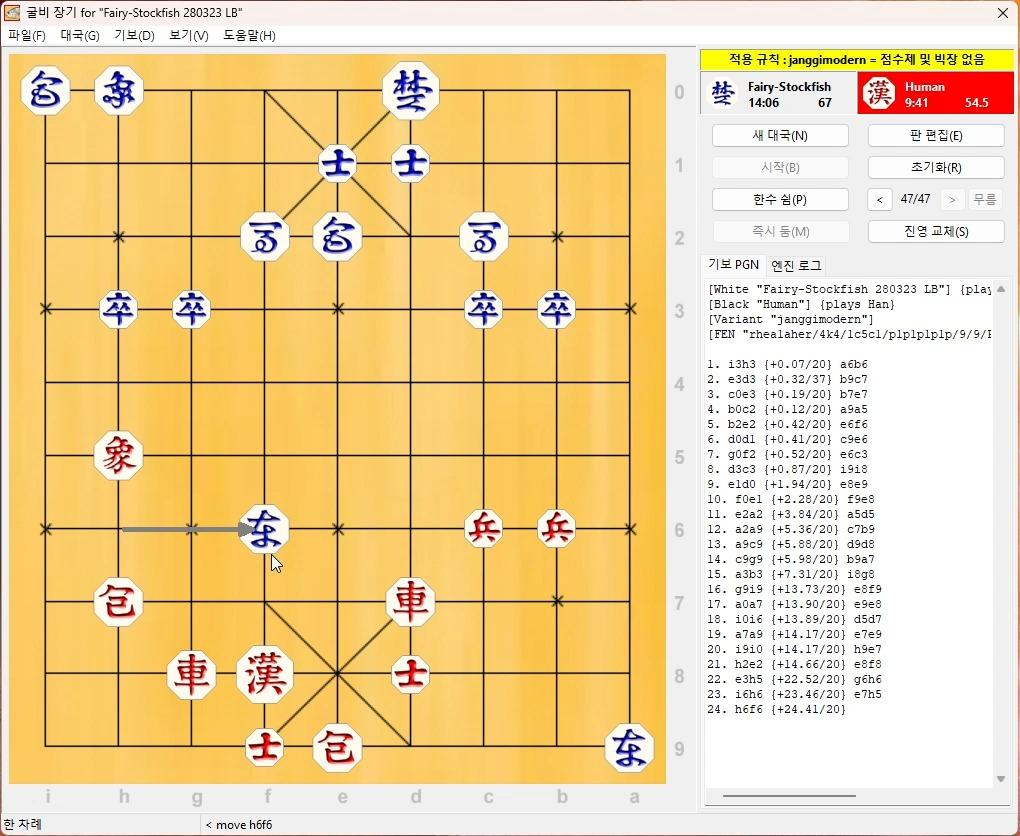cha_green: (607, 722, 653, 772), (239, 508, 288, 554)
cha_red: (390, 576, 439, 622), (166, 652, 216, 697)
jol_green: (536, 293, 576, 329), (171, 293, 210, 329), (466, 293, 504, 329), (98, 293, 137, 328)
jol_red: (536, 504, 576, 548), (463, 508, 502, 551)
ma_green: (238, 213, 287, 259), (459, 214, 507, 260)
po_green: (316, 214, 363, 260), (21, 69, 69, 113)
po_red: (315, 725, 363, 771), (95, 580, 144, 625)
sa_green: (319, 147, 359, 184), (392, 148, 431, 183)
sa_red: (391, 658, 430, 692), (245, 730, 285, 763)
sang_green: (96, 68, 145, 115)
sang_red: (94, 434, 145, 479)
wang_green: (382, 64, 439, 118)
wang_red: (239, 650, 294, 701)
